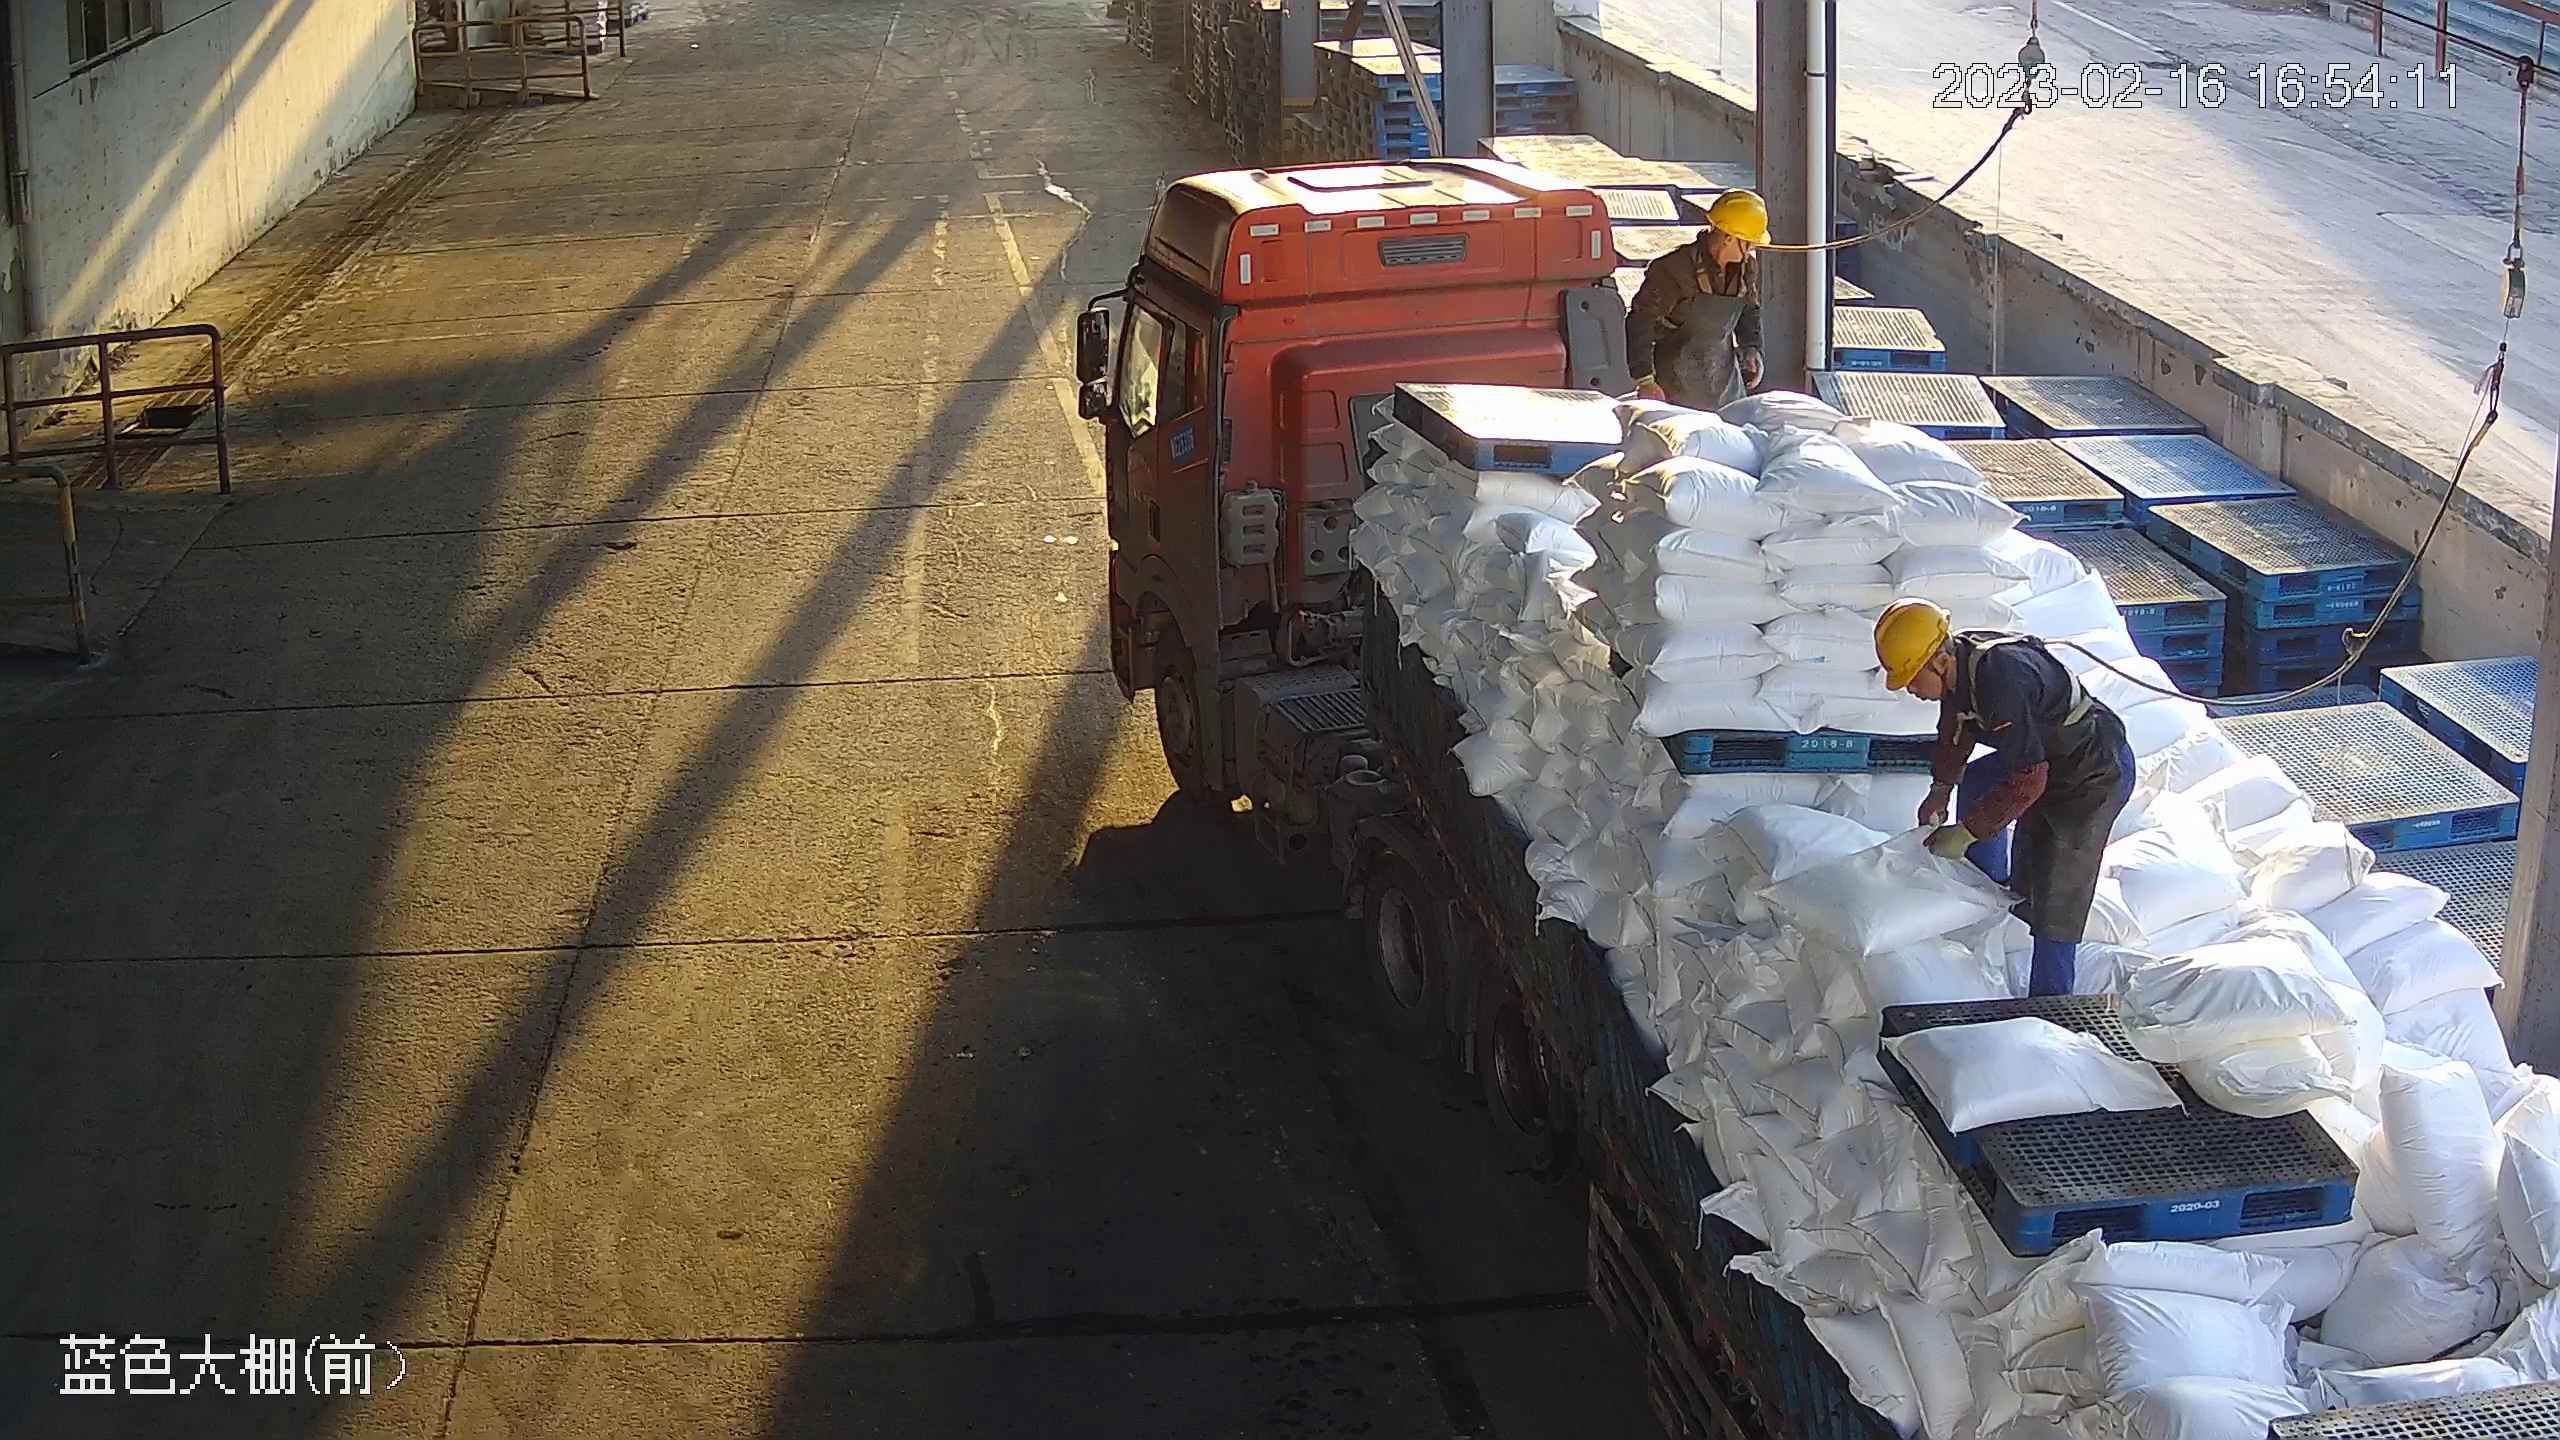belt: (1942, 627, 2114, 737), (1672, 231, 1782, 298)
head: (1873, 595, 2077, 716), (1645, 187, 1772, 284)
helmet: (1872, 594, 1954, 691), (1702, 186, 1772, 245)
people: (1872, 592, 2136, 1002), (1624, 186, 1768, 409)
truck: (1094, 154, 2560, 1440)
